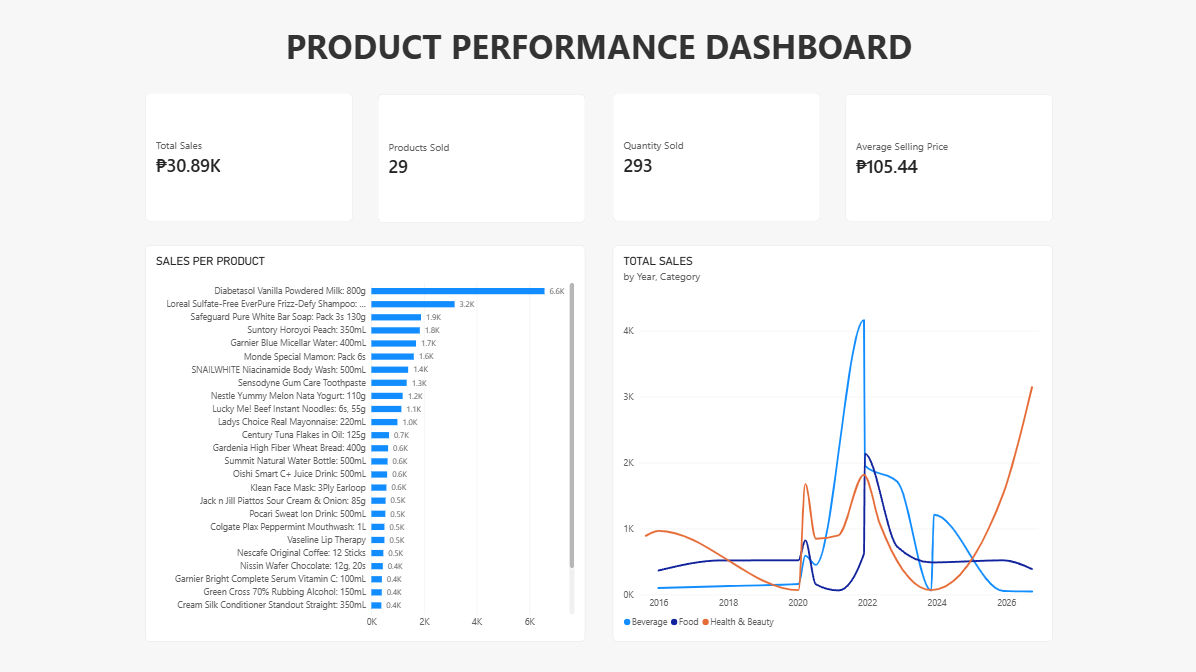

The page's visual inventory and layout, read from the dashboard file:
{"tool":"powerbi","page":{"name":"Product Performance","canvas":[1920,1080],"ordinal":1},"visuals":[{"type":"cardVisual","fields":{"Data":["order_items.Total Sales"]},"box":[234,150,332,206],"z":0},{"type":"textbox","box":[400,38,1120,108],"z":1},{"type":"cardVisual","fields":{"Data":["products.Products Sold"]},"box":[606,152,332,206],"z":2},{"type":"cardVisual","fields":{"Data":["products.Average Selling Price"]},"box":[1354,152,332,204],"z":3},{"type":"cardVisual","fields":{"Data":["order_items.Quantity Sold"]},"box":[982,150,332,206],"z":4},{"type":"clusteredBarChart","title":"SALES PER PRODUCT","fields":{"Category":["products.product_name"],"Y":["products.Total Sales Per Product"]},"box":[234,394,704,634],"z":5},{"type":"lineChart","title":"TOTAL SALES","fields":{"Category":["orders.order_date.Variation.Date Hierarchy.Year","orders.order_date.Variation.Date Hierarchy.Quarter","orders.order_date.Variation.Date Hierarchy.Month","orders.order_date.Variation.Date Hierarchy.Day"],"Series":["products.category"],"Y":["order_items.Total Sales"]},"box":[982,394,704,634],"z":6}]}

Visuals, with their boxes in screenshot pixels (x1, y1, x2, y2), scaled from the page's 1920x1080 canvas onto the 1196x672 screenshot:
cardVisual - order_items.Total Sales: left=146, top=93, right=353, bottom=222
textbox: left=249, top=24, right=947, bottom=91
cardVisual - products.Products Sold: left=377, top=95, right=584, bottom=223
cardVisual - products.Average Selling Price: left=843, top=95, right=1050, bottom=222
cardVisual - order_items.Quantity Sold: left=612, top=93, right=819, bottom=222
"SALES PER PRODUCT" clusteredBarChart: left=146, top=245, right=584, bottom=640
"TOTAL SALES" lineChart: left=612, top=245, right=1050, bottom=640
